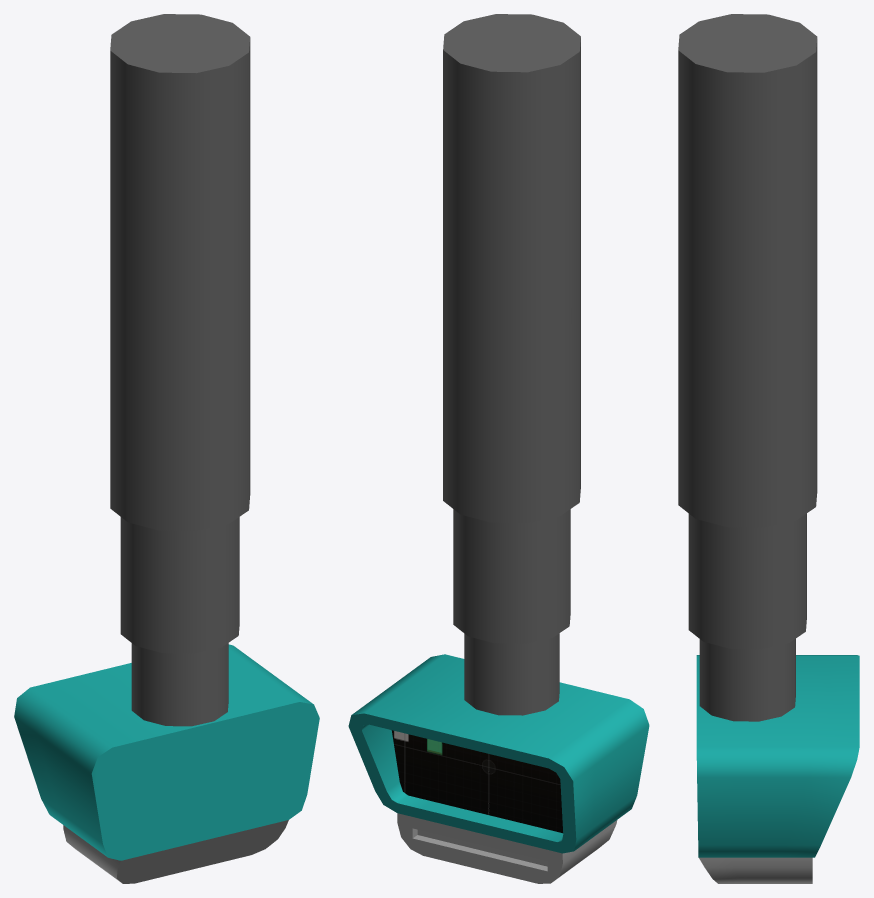
File: SM_Periscope.fbx
3 views of the same model, side by side, from view 1: azimuth 30°, elevation 25°; view 2: azimuth 150°, elevation 25°; view 3: azimuth 270°, elevation 25° (orthographic).
Visible parts, largest first — view 1: Periscope, Periscope.001, PeriscopeHolder2, PeriscopeHolder3; view 2: Periscope, Periscope.001, PeriscopeHolder2, PeriscopeScreen, PeriscopeHolder3; view 3: Periscope, Periscope.001, PeriscopeHolder2, PeriscopeHolder3.
Boxes of the visible parts, <box> form: Periscope: <box>110,14,250,530</box>; Periscope.001: <box>14,644,319,883</box>; PeriscopeHolder2: <box>120,517,239,653</box>; PeriscopeHolder3: <box>131,643,228,726</box>; Periscope: <box>443,14,580,523</box>; Periscope.001: <box>348,654,649,883</box>; PeriscopeHolder2: <box>453,509,570,643</box>; PeriscopeScreen: <box>391,730,562,833</box>; PeriscopeHolder3: <box>464,633,559,715</box>; Periscope: <box>678,14,817,527</box>; Periscope.001: <box>696,655,859,883</box>; PeriscopeHolder2: <box>688,513,806,649</box>; PeriscopeHolder3: <box>699,638,795,721</box>.
Bounding box in the file's own units: 0.6544 × 2.23 × 0.4539.
2 materials, 2 textured.
